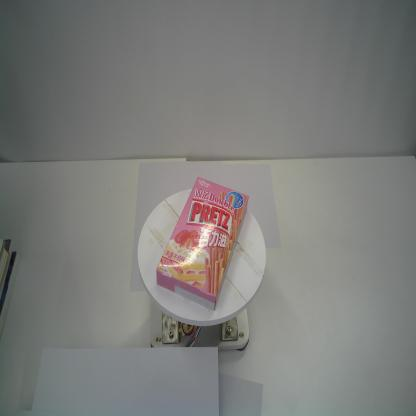Dessert: (156, 176, 250, 312)
